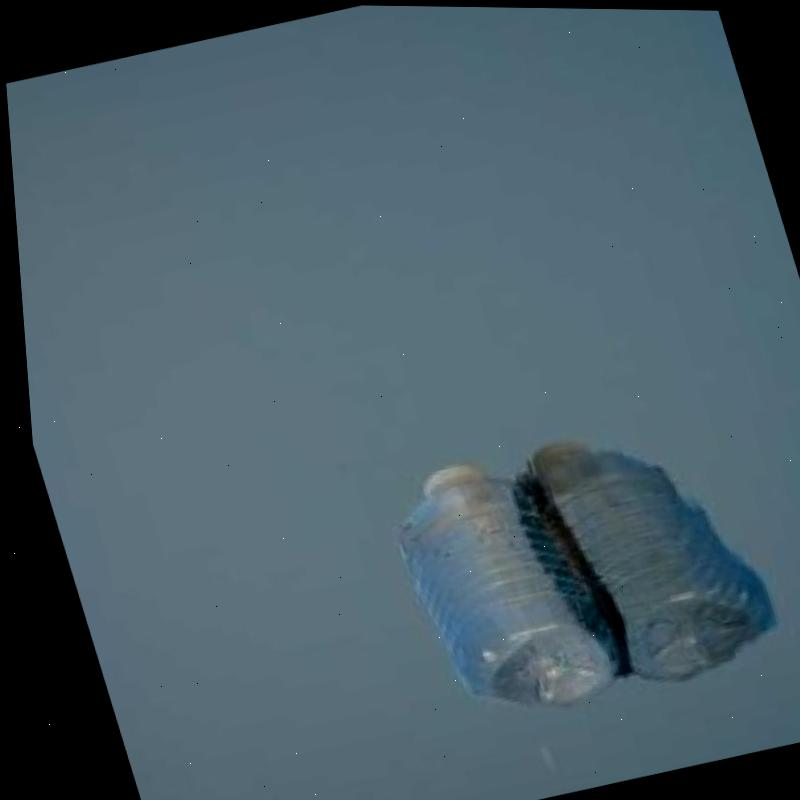botella: (367, 434, 628, 729)
